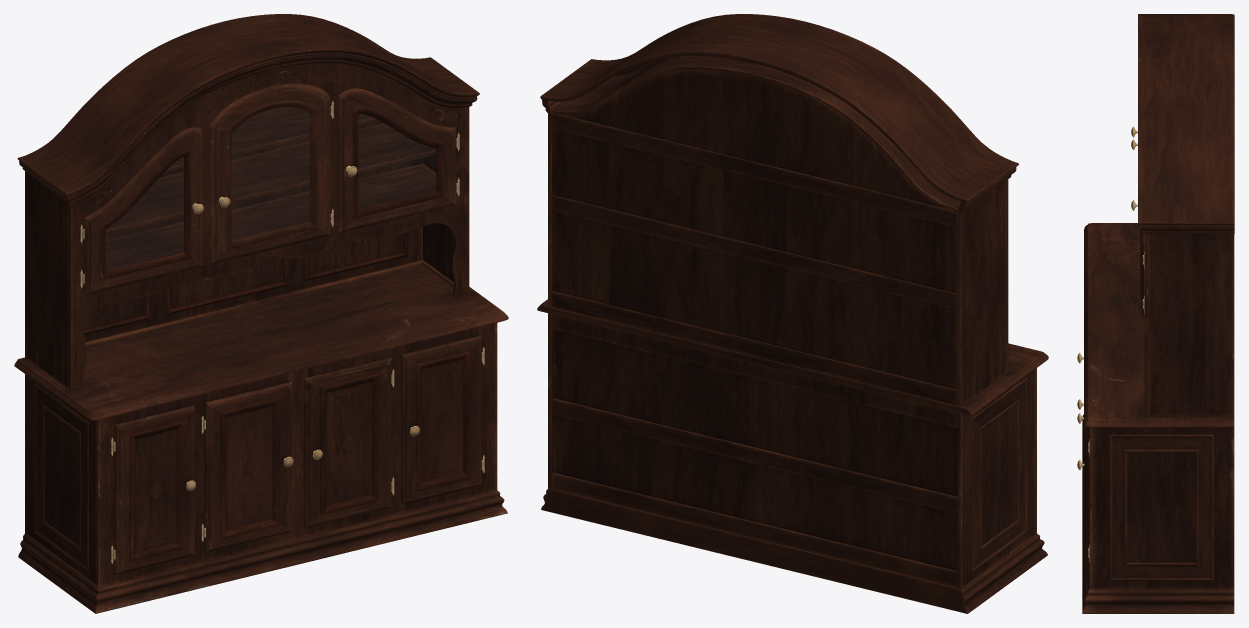
The model's file is wine_rack.glb.
3 renders of one model, left to right at view 1: azimuth 30°, elevation 25°; view 2: azimuth 150°, elevation 25°; view 3: azimuth 270°, elevation 25°, orthographic. The views are drawn at different scales.
Parts seen in each view (by area): view 1: body, door_3, door_1, door_4, door_7, door_6, door_2, door_5; view 2: body; view 3: body, door_2, door_4.
Part boxes in pixels (<box>): body: <box>14,14,508,613</box>; door_3: <box>210,83,332,264</box>; door_1: <box>83,127,203,295</box>; door_4: <box>338,88,458,233</box>; door_7: <box>304,357,392,528</box>; door_6: <box>204,381,293,552</box>; door_2: <box>401,335,483,504</box>; door_5: <box>113,405,195,574</box>; body: <box>537,14,1048,613</box>; body: <box>1082,14,1234,613</box>; door_2: <box>1077,426,1089,572</box>; door_4: <box>1131,200,1144,319</box>.
Size of the model in its own units: 2.02 by 2.24 by 0.6698.
Materials: 3 (2 with a texture image).
